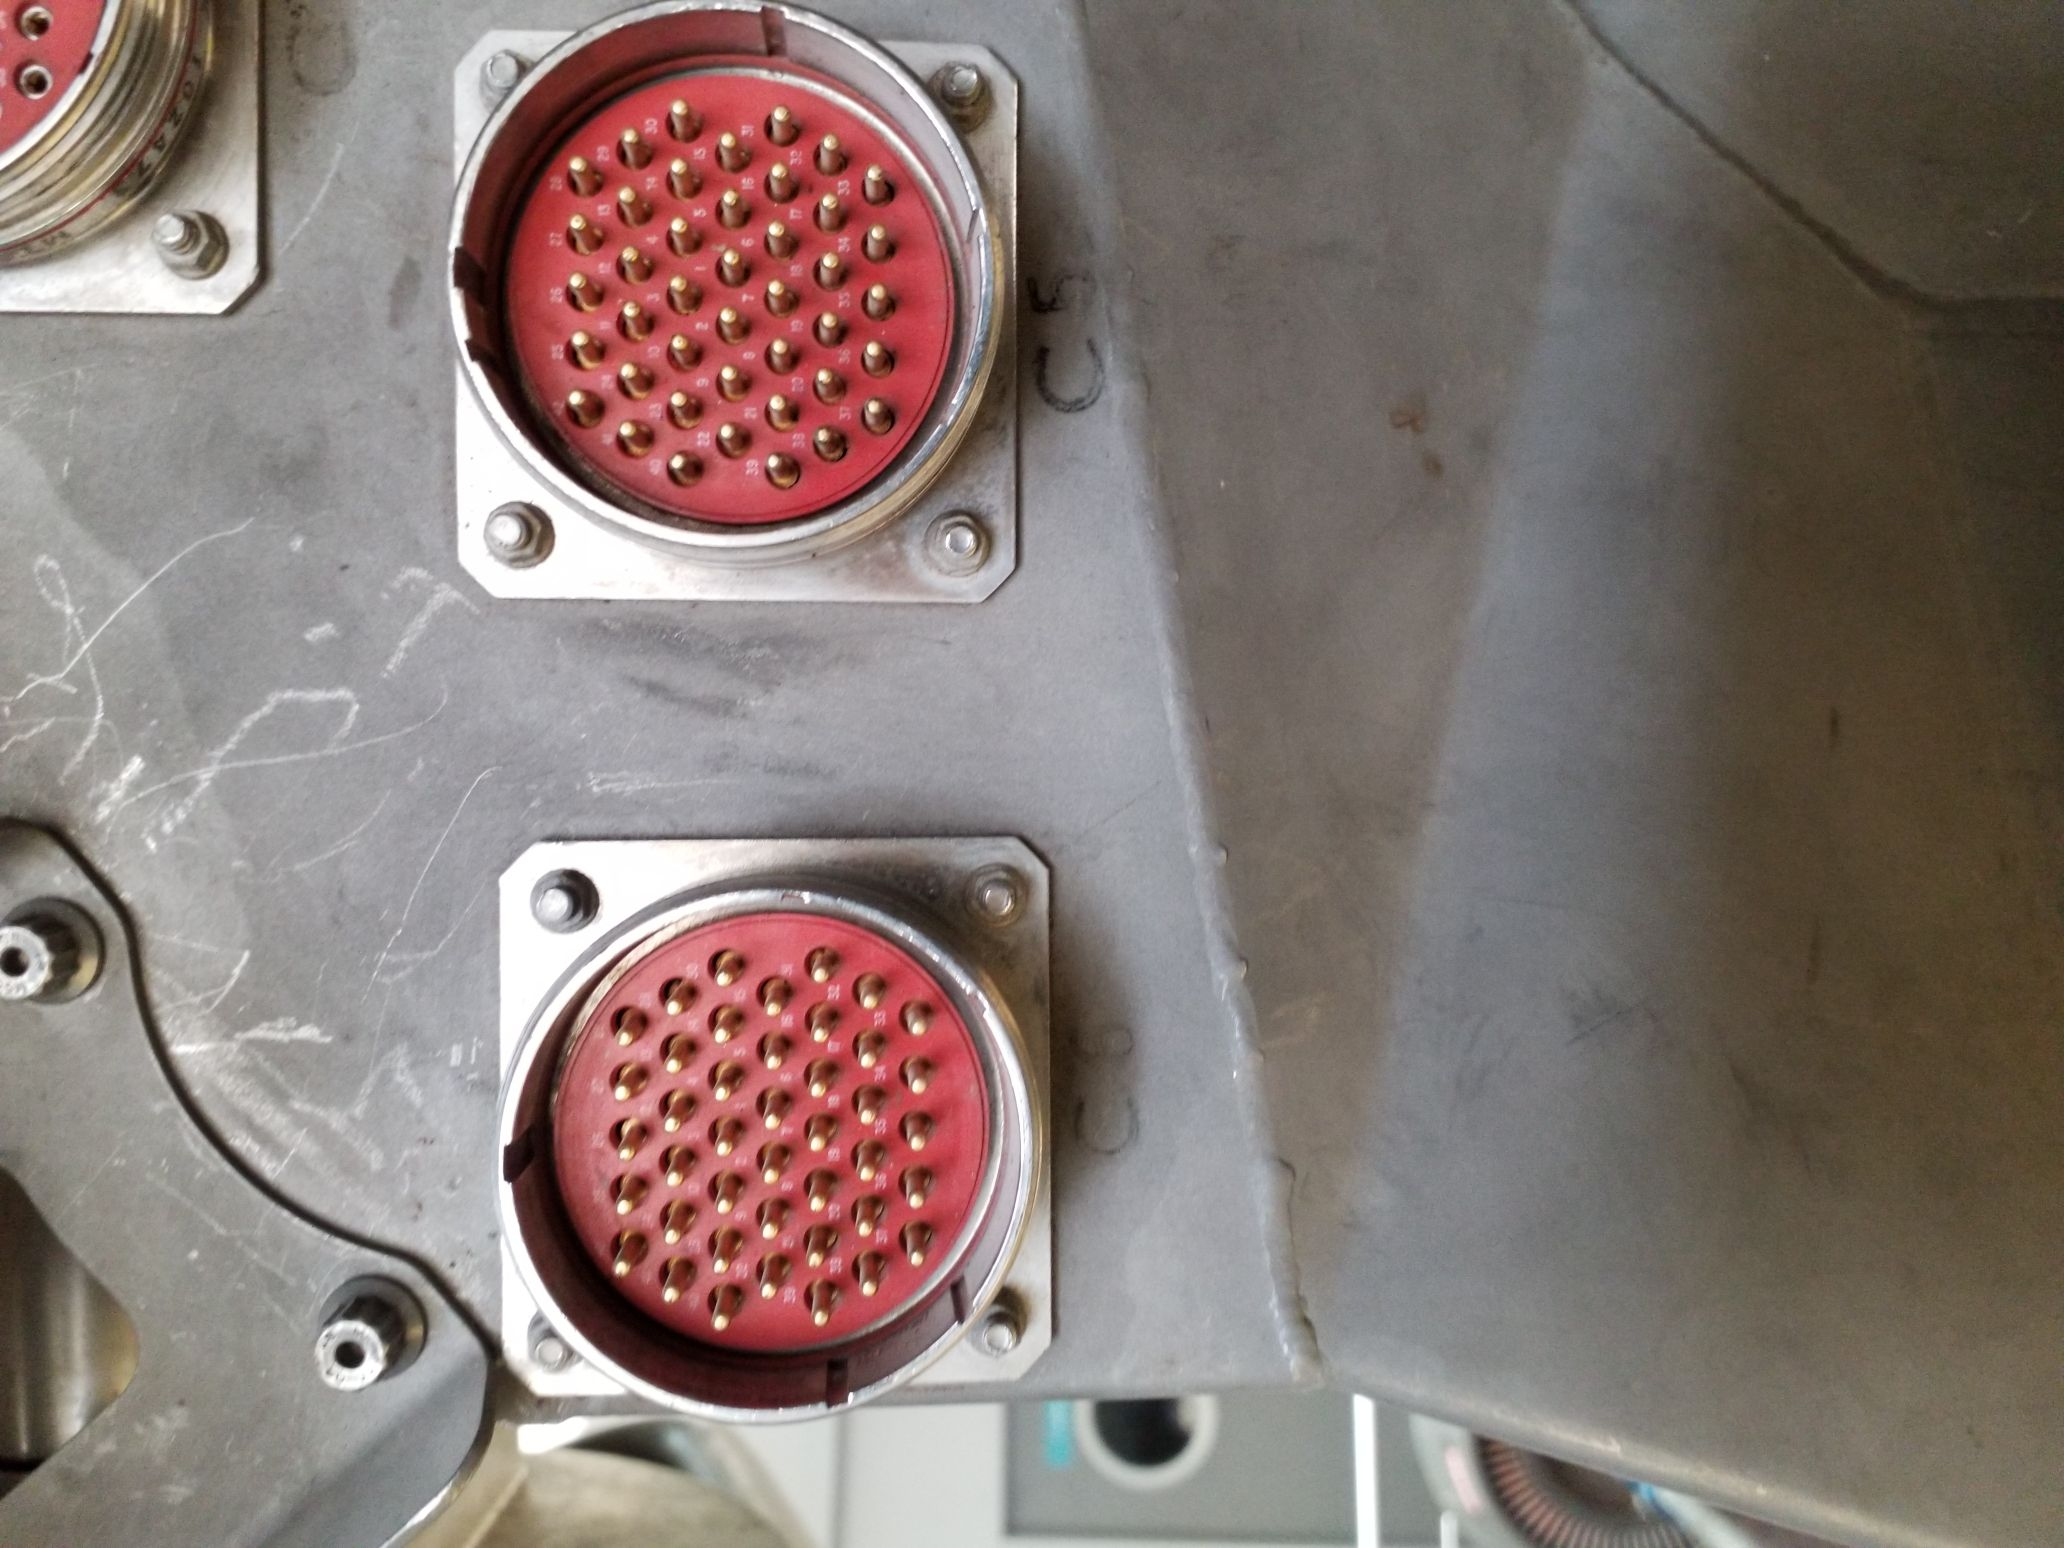outlet: (479, 833, 1069, 1423), (439, 3, 1025, 590)
